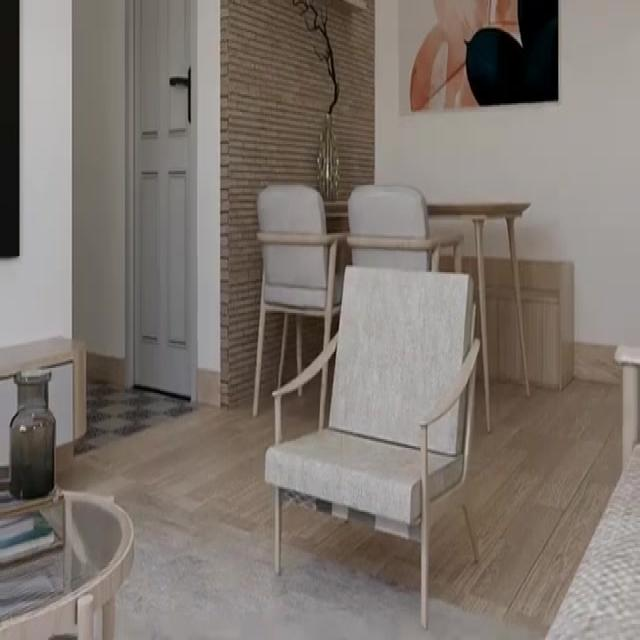door: (132, 0, 197, 402)
obstacle: (264, 265, 481, 627)
